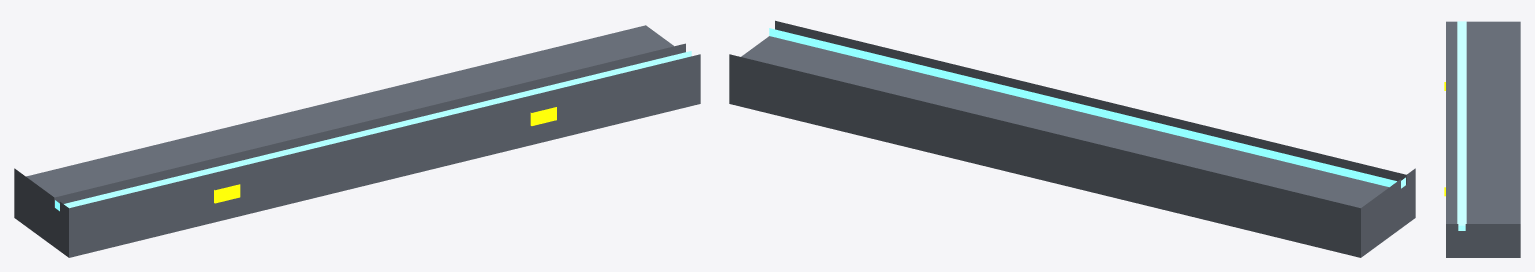
Rendered from ext_curb_segment_05.glb.
The picture shows the model from 3 angles, left to right: view 1: azimuth 30°, elevation 25°; view 2: azimuth 150°, elevation 25°; view 3: azimuth 270°, elevation 25°; orthographic projection. The views are drawn at different scales.
Visible parts, largest first — view 1: Curb, Glow_Line, Reflector_Studs; view 2: Curb, Glow_Line; view 3: Curb, Glow_Line.
Part boxes in pixels (box(x1,y1,x2,y2)): Curb: box(14, 25, 700, 257); Glow_Line: box(55, 51, 691, 211); Reflector_Studs: box(214, 107, 556, 203); Curb: box(729, 20, 1415, 257); Glow_Line: box(769, 28, 1405, 188); Curb: box(1446, 21, 1520, 257); Glow_Line: box(1457, 21, 1466, 230).
Size of the model in its own units: 1.99 by 0.15 by 0.306.
